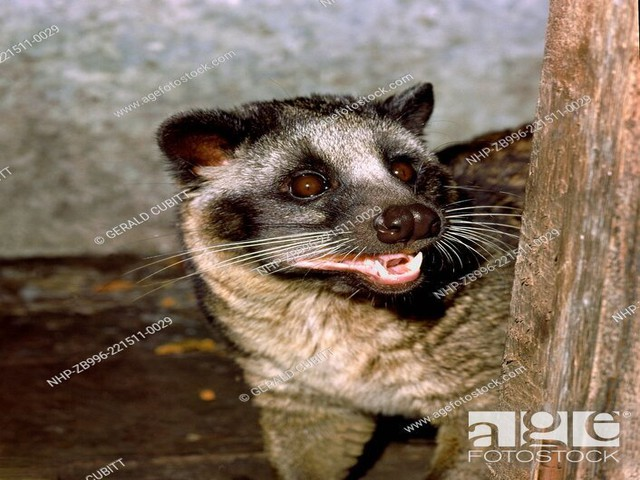civet: (155, 80, 527, 474)
